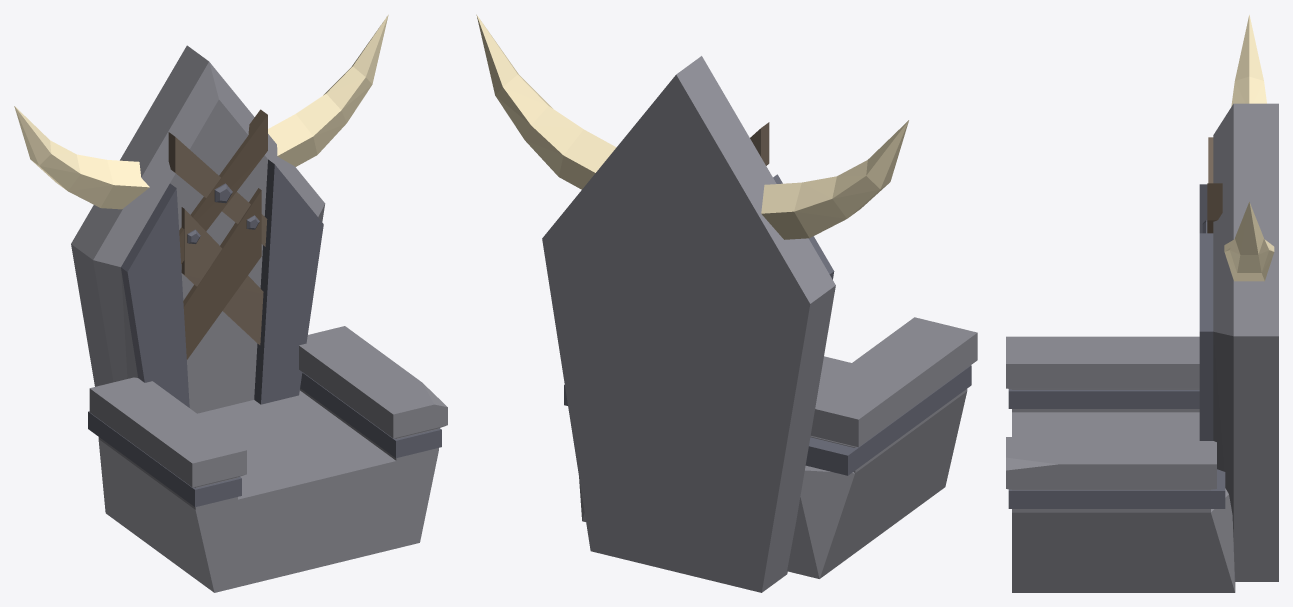
Rendered from _throne.fbx.
The picture shows the model from 3 angles, left to right: view 1: azimuth 30°, elevation 25°; view 2: azimuth 150°, elevation 25°; view 3: azimuth 270°, elevation 25°; orthographic projection. The views are drawn at different scales.
Parts seen in each view (by area): view 1: throne; view 2: throne; view 3: throne.
Part boxes in pixels (<box>): throne: <box>14,14,447,592</box>; throne: <box>476,14,977,592</box>; throne: <box>1006,14,1278,592</box>.
Bounding box in the file's own units: 264 × 290 × 162.
